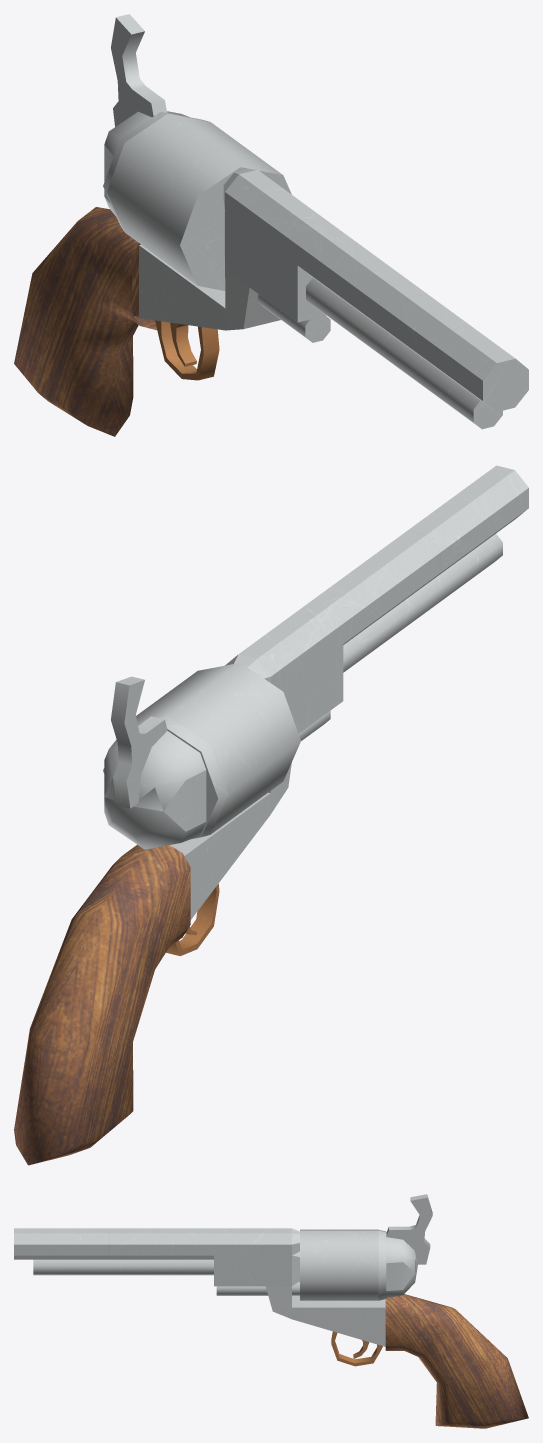
The model's file is 1217先进科尔特.FBX.
3 views of the same model, one above another, from view 1: azimuth 30°, elevation 25°; view 2: azimuth 150°, elevation 25°; view 3: azimuth 270°, elevation 25° (orthographic). The views are drawn at different scales.
Visible parts, largest first — view 1: 1217_ColtRevolver; view 2: 1217_ColtRevolver; view 3: 1217_ColtRevolver.
Part boxes in pixels (<box>): 1217_ColtRevolver: <box>14,14,528,436</box>; 1217_ColtRevolver: <box>14,465,528,1165</box>; 1217_ColtRevolver: <box>14,1194,528,1428</box>.
Size of the model in its own units: 6.59 by 22.45 by 44.99.
1 material, 1 textured.
